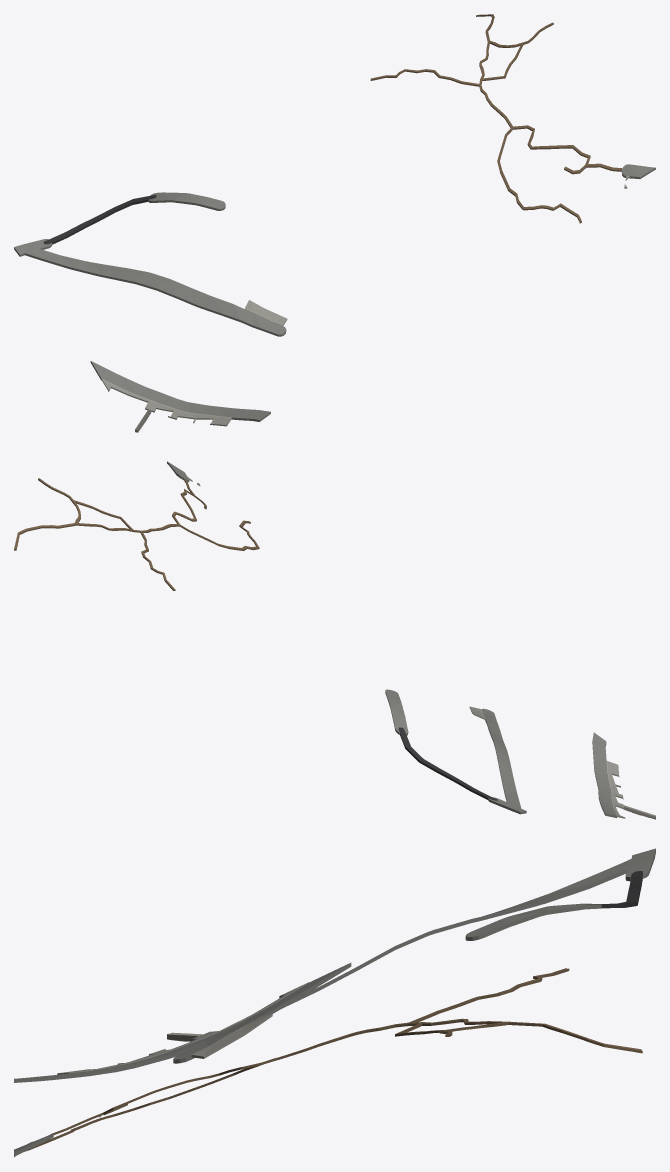
3 views of the same model, one above another, from view 1: azimuth 30°, elevation 25°; view 2: azimuth 150°, elevation 25°; view 3: azimuth 270°, elevation 25° (orthographic). The views are drawn at different scales.
Bounding box in the file's own units: 294 × 138 × 169.
